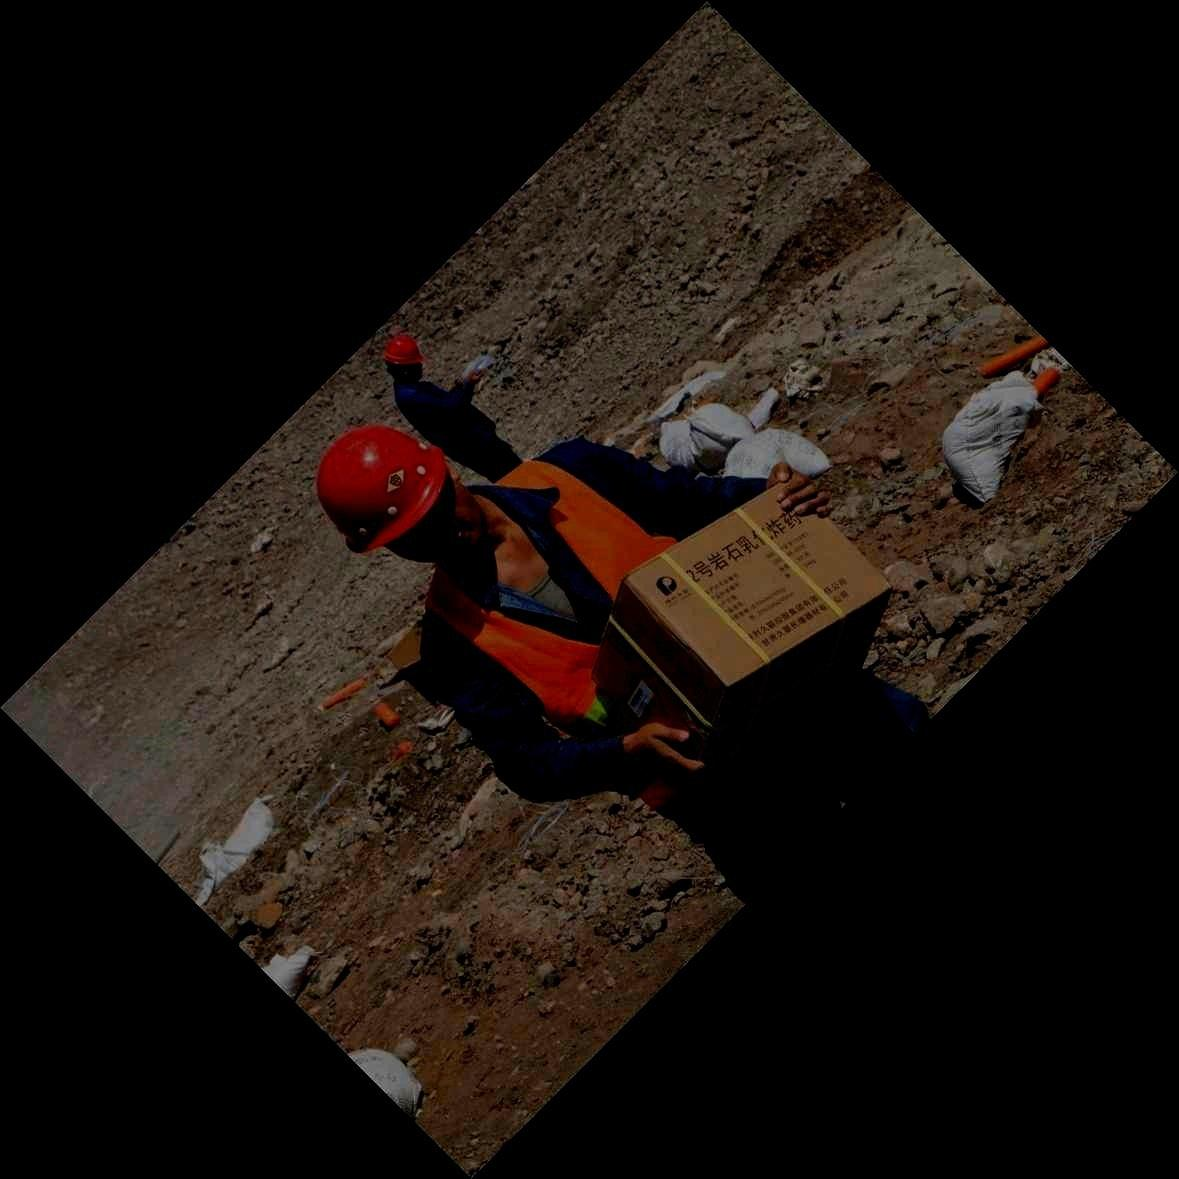helmet: (313, 422, 484, 566), (381, 333, 426, 384)
